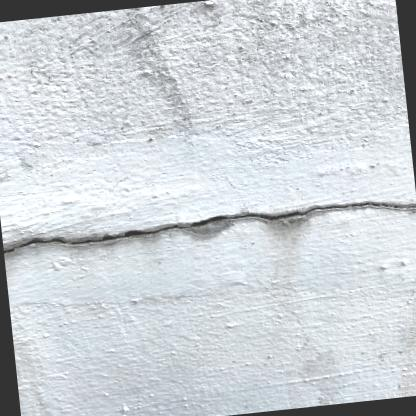crack: (3, 200, 416, 254)
